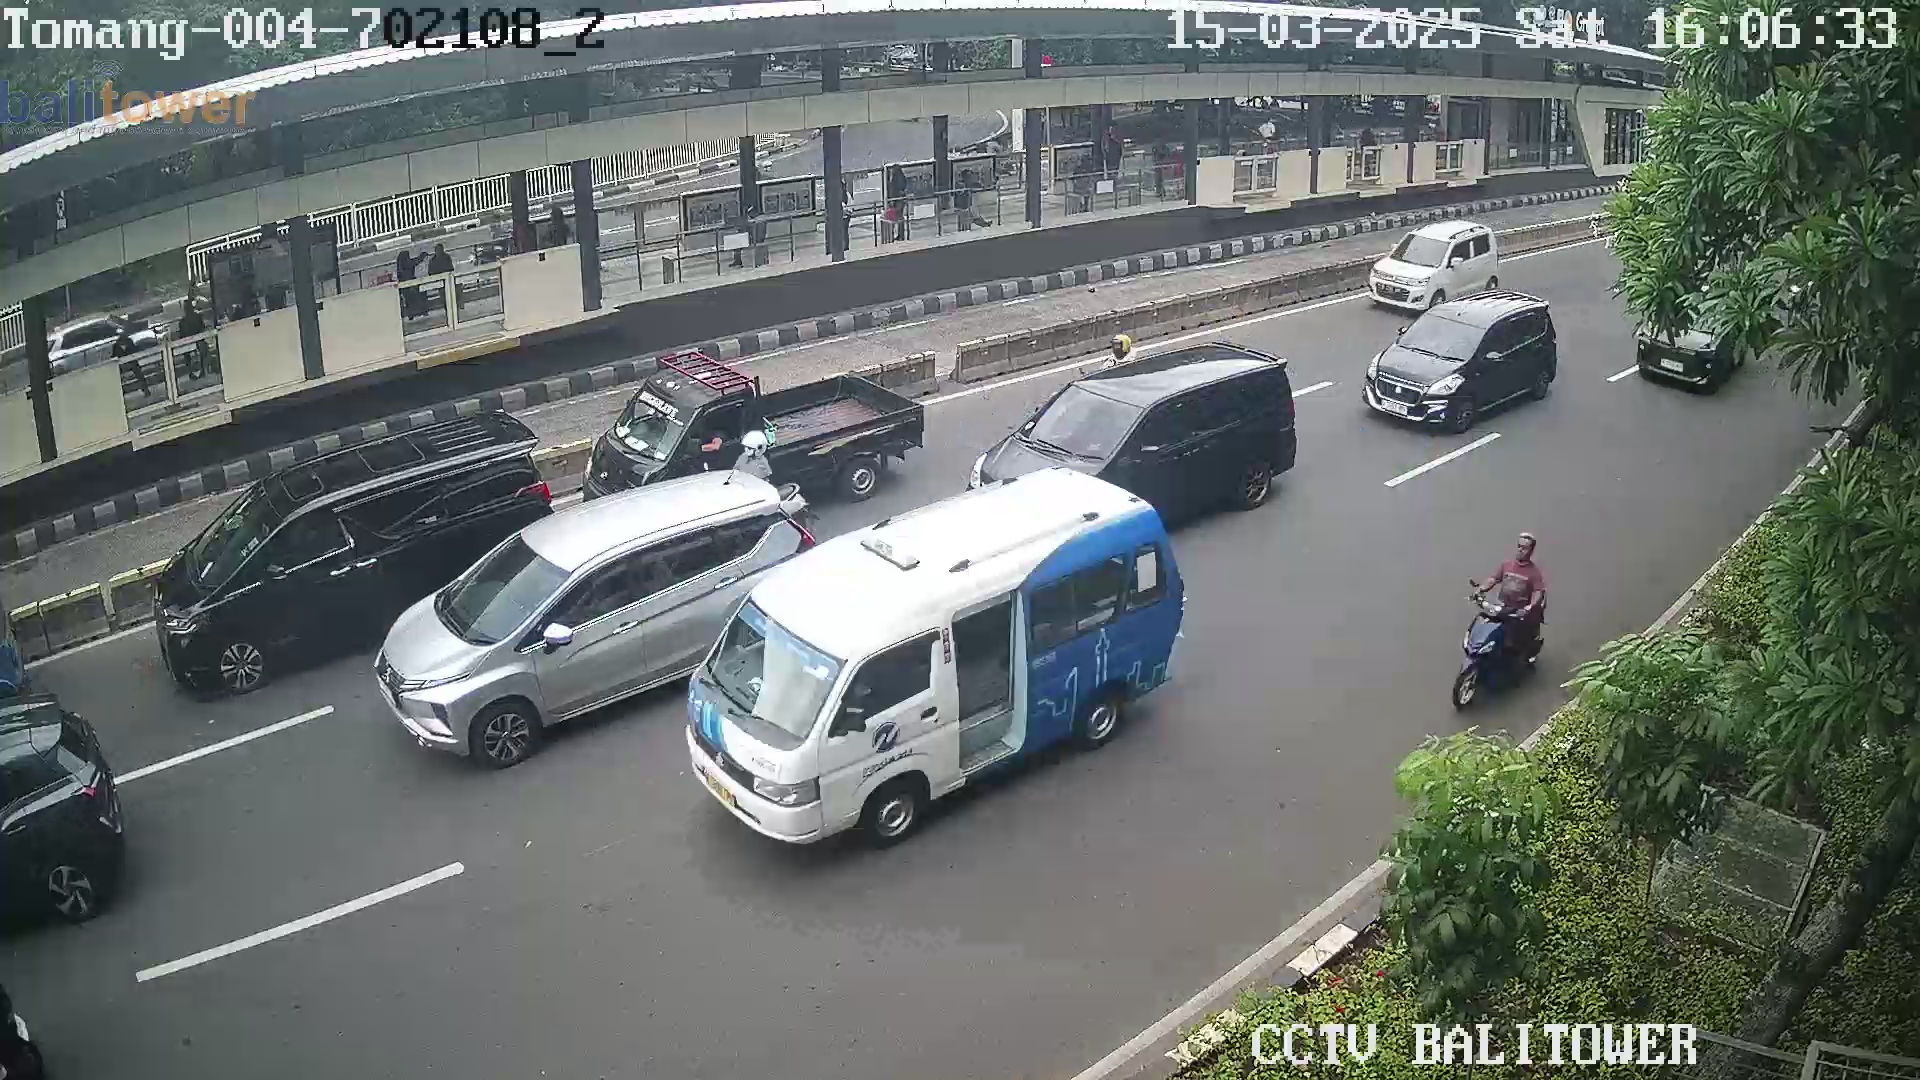half-face helmet: (737, 427, 774, 465), (1110, 326, 1139, 359)
no helmet: (1510, 527, 1547, 580)
